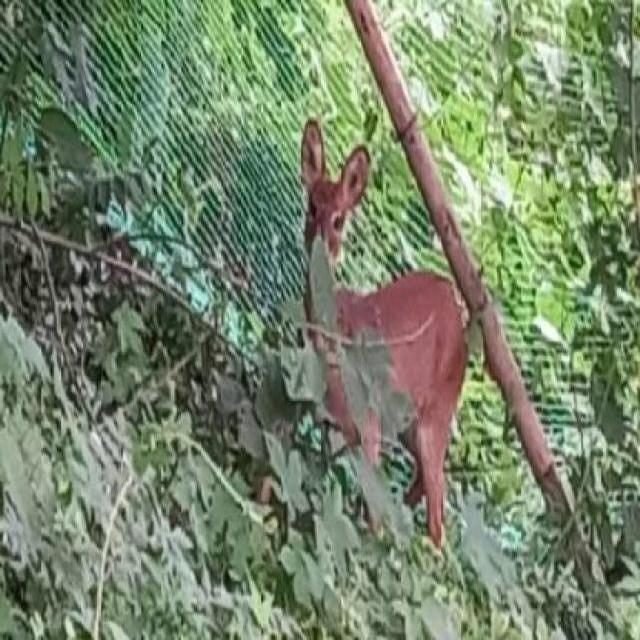deer: (290, 115, 462, 582)
